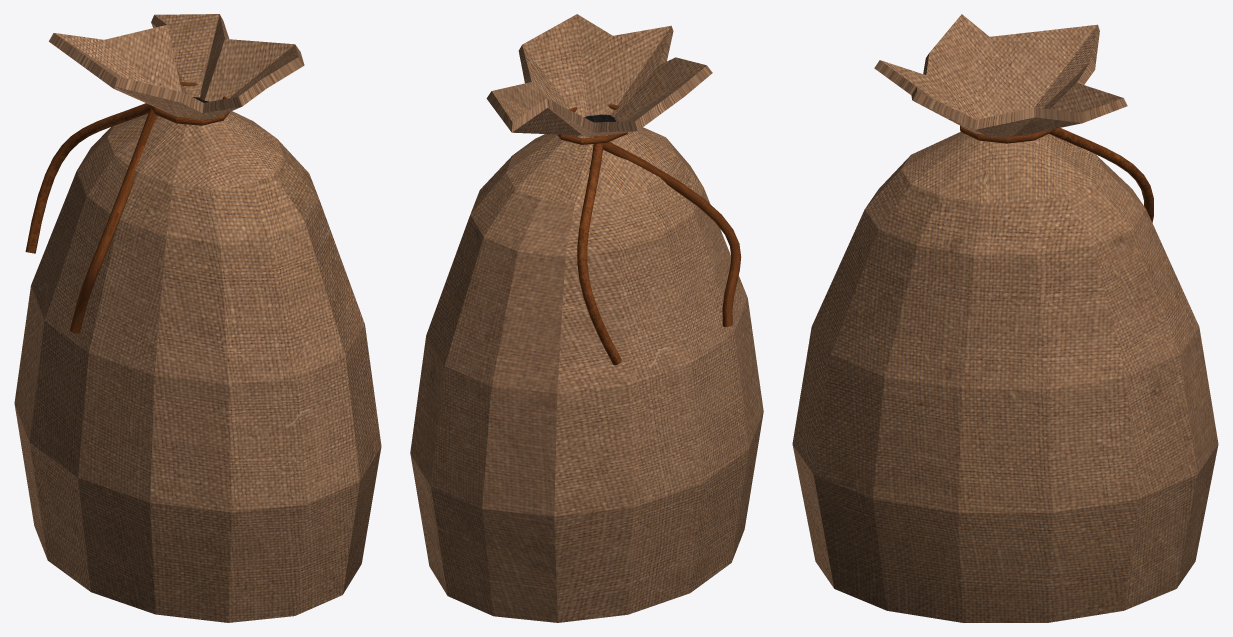
Rendered from seedsack.fbx.
3 views of the same model, side by side, from view 1: azimuth 30°, elevation 25°; view 2: azimuth 150°, elevation 25°; view 3: azimuth 270°, elevation 25° (orthographic). The views are drawn at different scales.
Visible parts, largest first — view 1: sack; view 2: sack; view 3: sack.
Part boxes in pixels (left/top/right/bottom): sack: left=14, top=14, right=381, bottom=622; sack: left=410, top=14, right=763, bottom=622; sack: left=792, top=14, right=1218, bottom=622.
Bounding box in the file's own units: 0.1193 × 0.156 × 0.2014.
